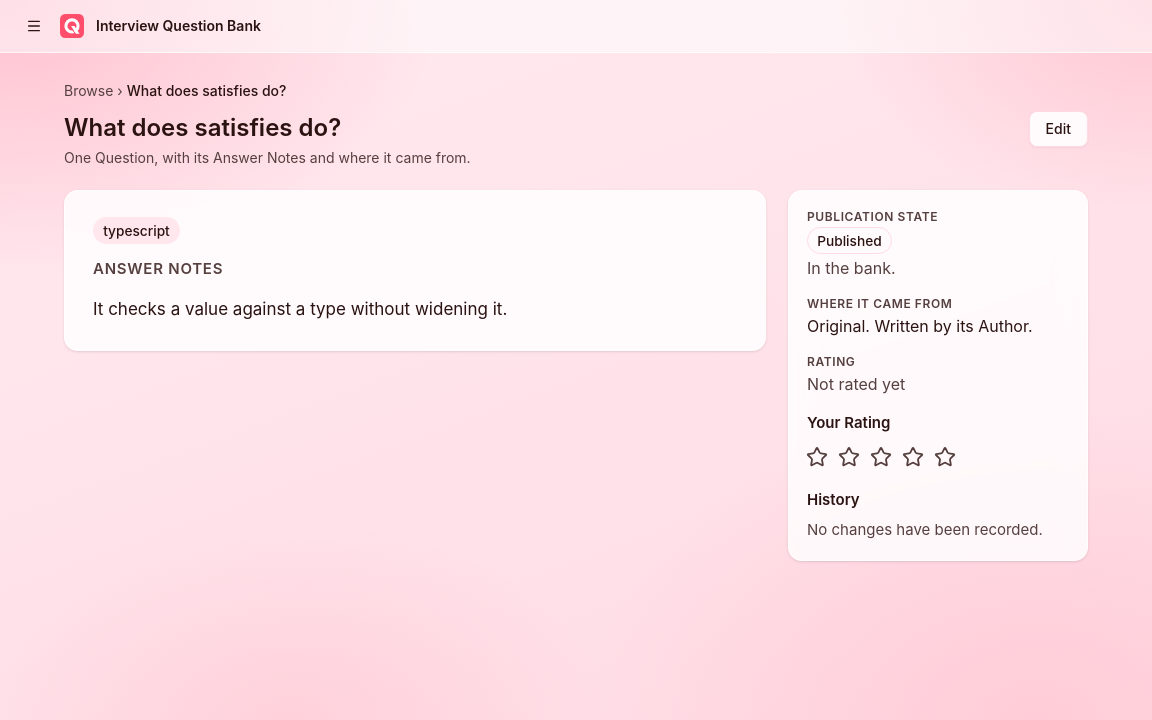
Scenario: editing a Question › compares with the Question as it was opened, not as it was fetched again later
Click the link "Edit" at [1058, 129], box 1029,111 -> 1088,147
(page scrolled)
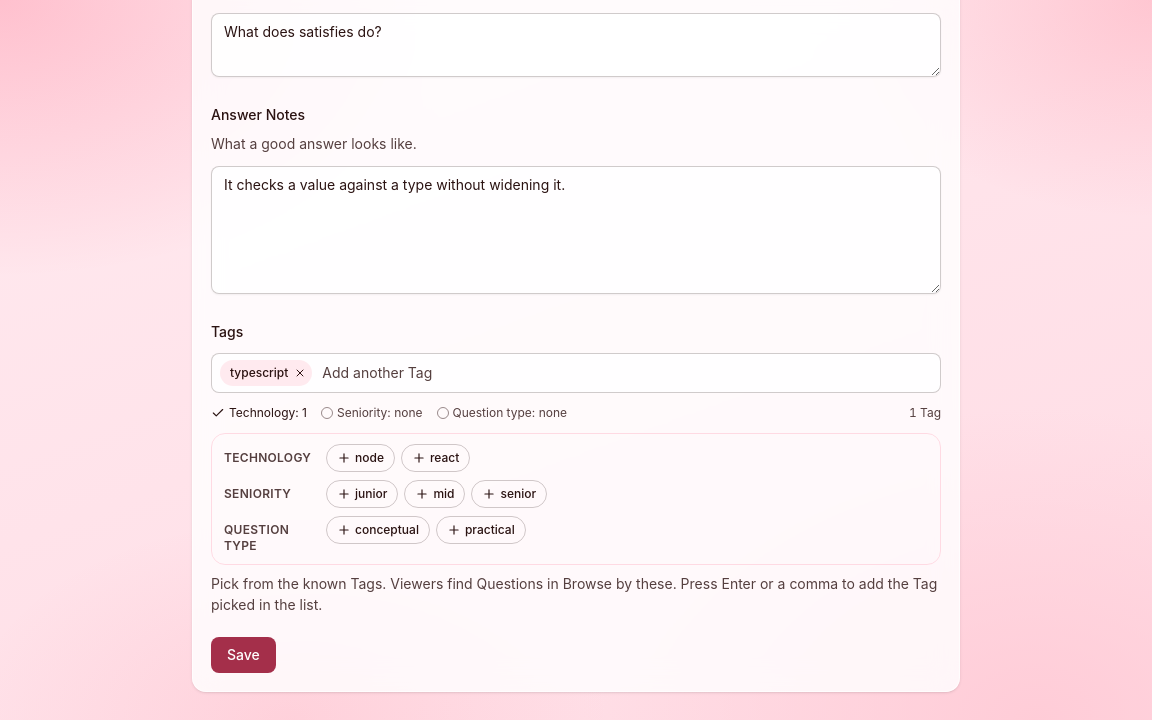
Expected: the text box labelled "Question" is shown, 211,13 -> 941,77
Click the button with aria-label "Add senior" at [509, 494], box 472,480 -> 547,508
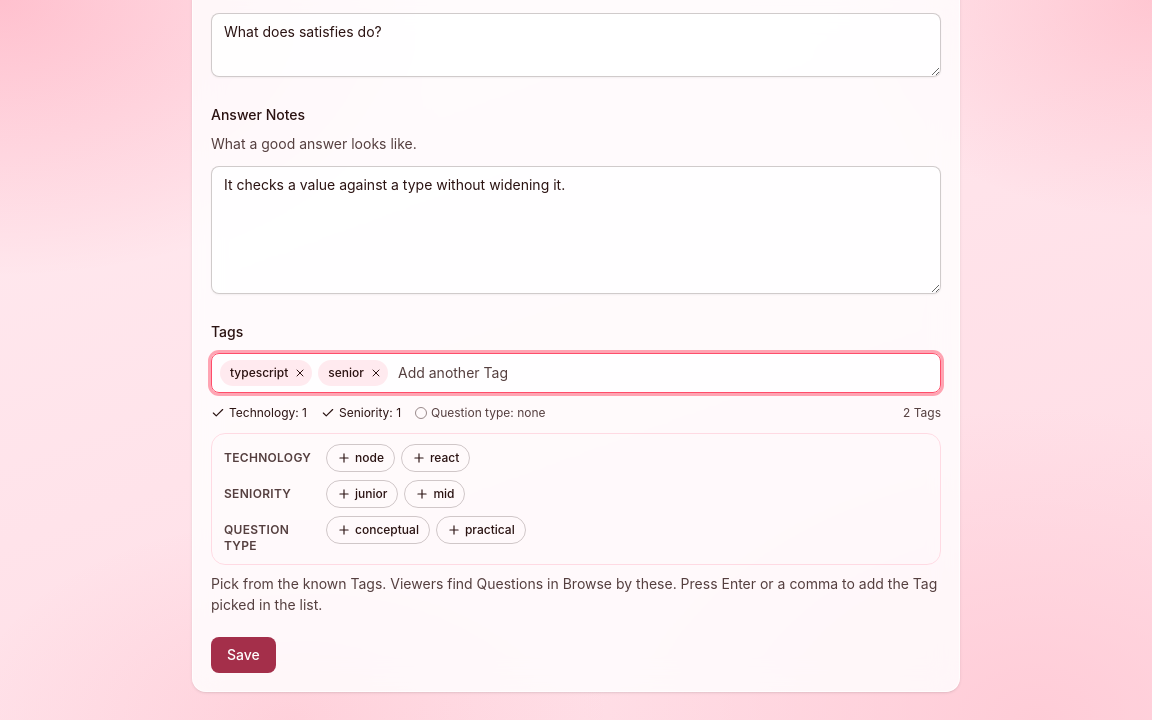
Click the button "Save" at [243, 655], box 211,637 -> 276,673
(page scrolled)
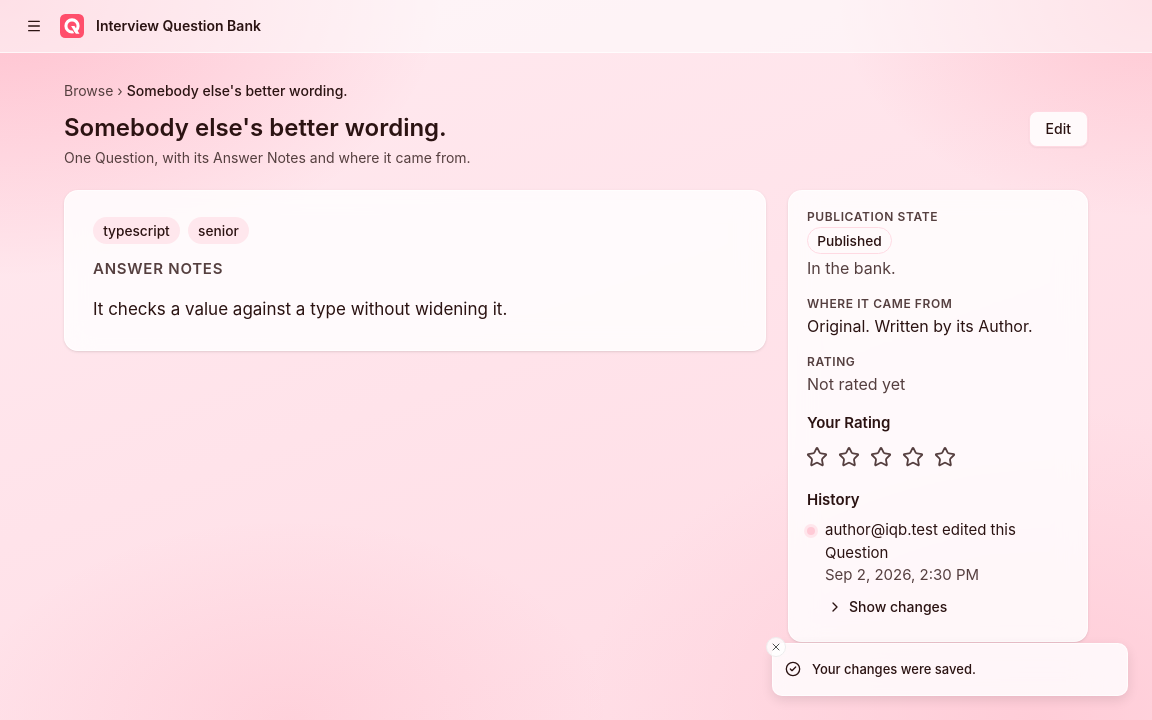
Expected: the heading "Somebody else's better wording." is shown, 64,113 -> 447,142
